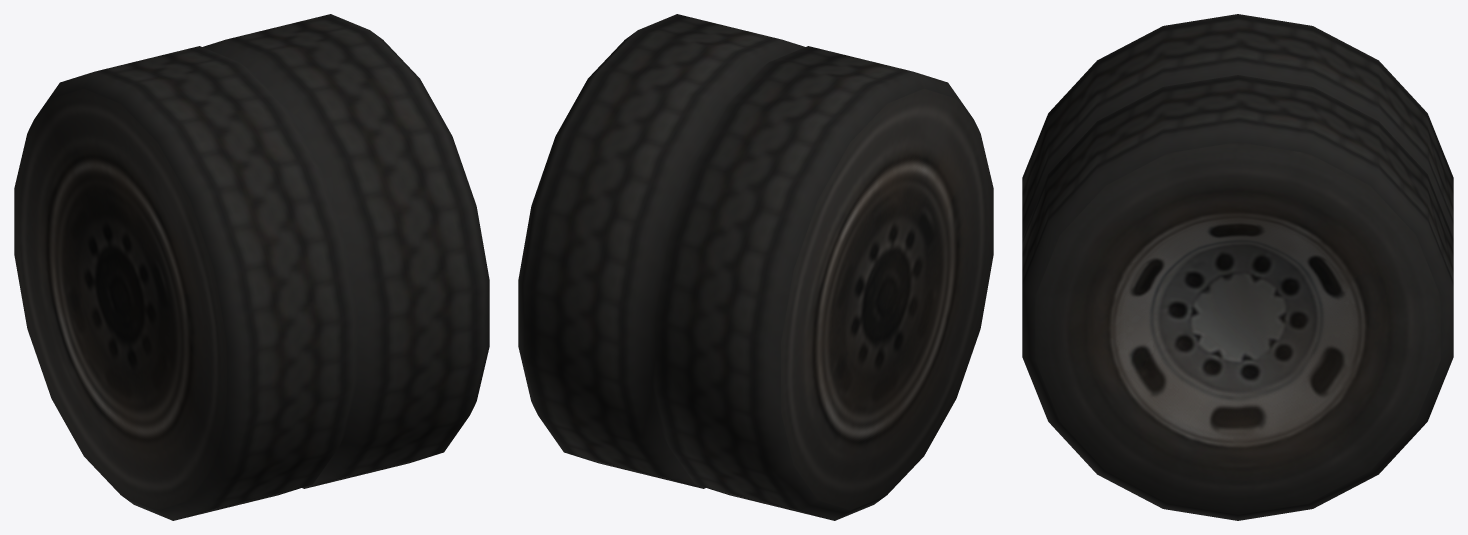
File: vehicles_SemiTruck_Wheel_Double.fbx
The picture shows the model from 3 angles, left to right: view 1: azimuth 30°, elevation 25°; view 2: azimuth 150°, elevation 25°; view 3: azimuth 270°, elevation 25°; orthographic projection. The views are drawn at different scales.
Parts seen in each view (by area): view 1: wheels; view 2: wheels; view 3: wheels.
Boxes of the visible parts, x1,y1,x2,y2 form: wheels: [14, 14, 489, 520]; wheels: [518, 14, 993, 520]; wheels: [1022, 14, 1453, 520].
Size of the model in its own units: 0.537 by 0.8153 by 0.8029.
Materials: 1 (1 with a texture image).
